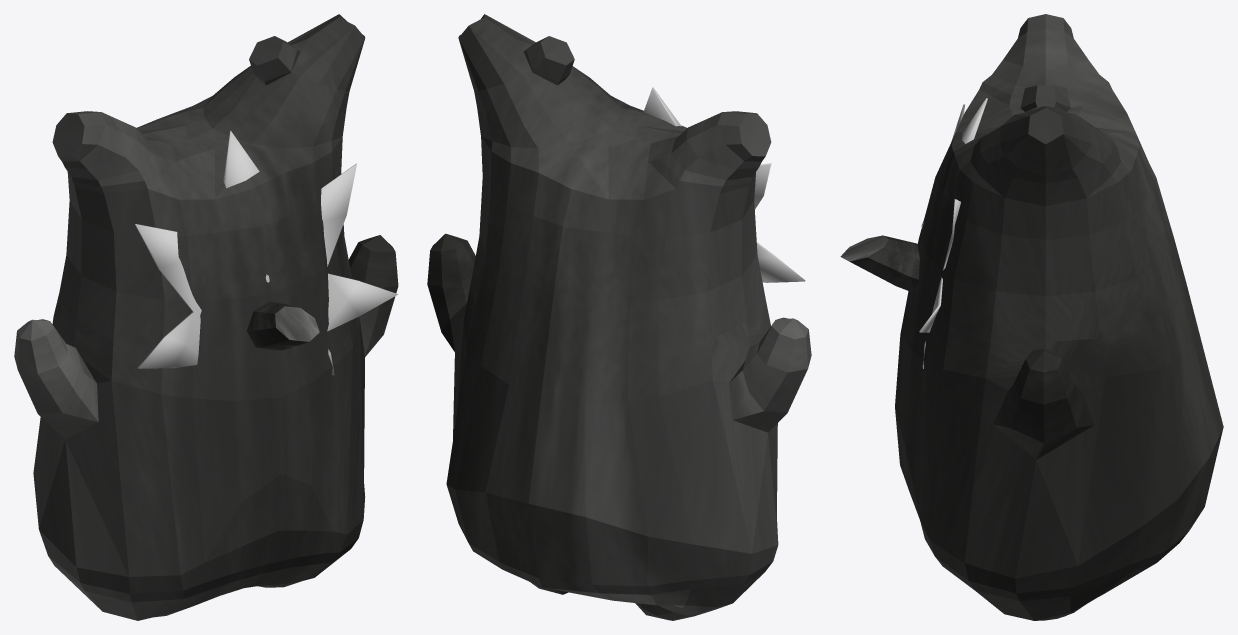
Rendered from frame_0061.obj.
3 renders of one model, left to right at view 1: azimuth 30°, elevation 25°; view 2: azimuth 150°, elevation 25°; view 3: azimuth 270°, elevation 25°, orthographic.
Visible parts, largest first — view 1: korok, leaf, nose.003_柱体.011; view 2: korok, leaf; view 3: korok, nose.003_柱体.011, leaf.
Boxes of the visible parts, x1,y1,x2,y2 form: korok: (14,14,398,620); leaf: (135,130,398,375); nose.003_柱体.011: (246,302,319,350); korok: (427,14,811,620); leaf: (643,87,805,282); korok: (895,14,1223,620); nose.003_柱体.011: (840,235,919,292); leaf: (919,98,987,368).
Bounding box in the file's own units: 1.53 × 2.13 × 1.36.
